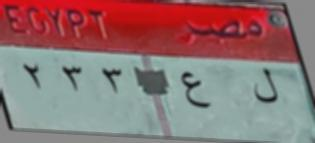2: (16, 55, 49, 91)
3: (99, 61, 132, 97), (57, 61, 90, 94)
ain: (177, 66, 216, 114)
laam: (250, 64, 280, 107)
